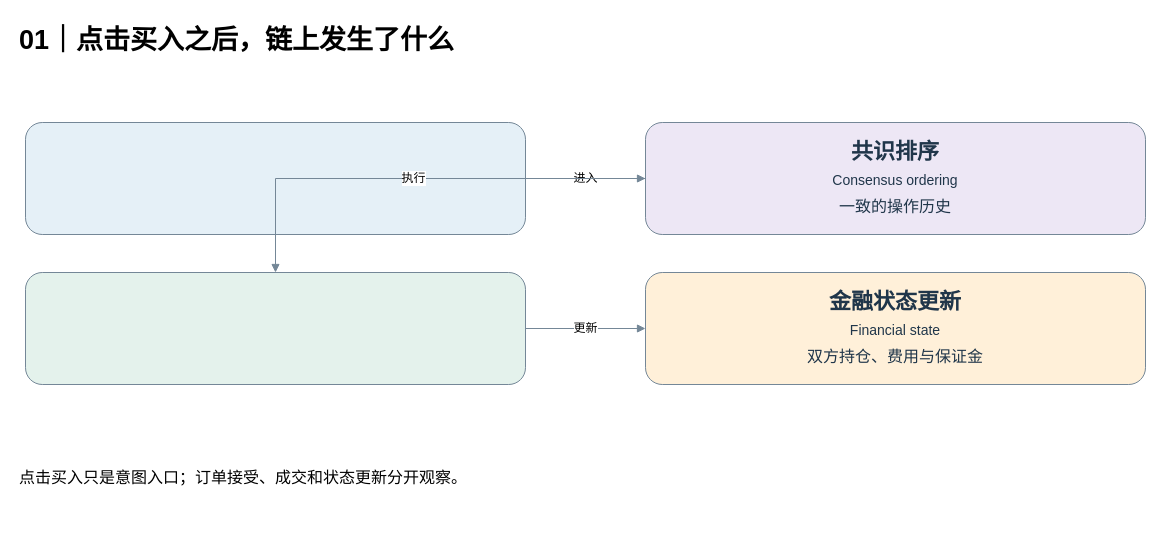
The diagram is 1170 pixels wide and 540 high, and some of its shapes have lost their labels. Here are the shapes that lost their labels. From the top down, the box of each, then its label:
(24, 122, 526, 234): 签名意图 Signed action 权限与条件
(24, 272, 526, 384): 订单簿撮合 Order-book matching 零笔或多笔成交
